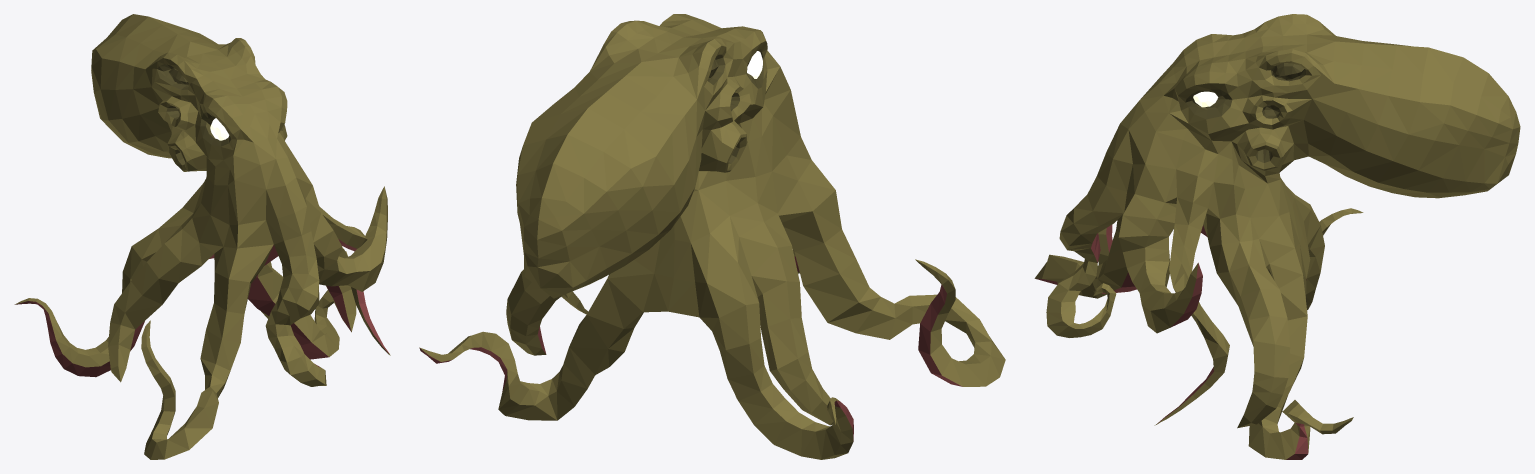
The model's file is Krakren_Table_004.fbx.
The picture shows the model from 3 angles, left to right: view 1: azimuth 30°, elevation 25°; view 2: azimuth 150°, elevation 25°; view 3: azimuth 270°, elevation 25°; orthographic projection. The views are drawn at different scales.
Visible parts, largest first — view 1: Krakren_Table_004; view 2: Krakren_Table_004; view 3: Krakren_Table_004.
Boxes of the visible parts, bbox=[...] form: Krakren_Table_004: bbox=[14, 14, 390, 459]; Krakren_Table_004: bbox=[419, 14, 1005, 459]; Krakren_Table_004: bbox=[1034, 14, 1520, 459].
Size of the model in its own units: 2.35 by 2.26 by 2.7.
